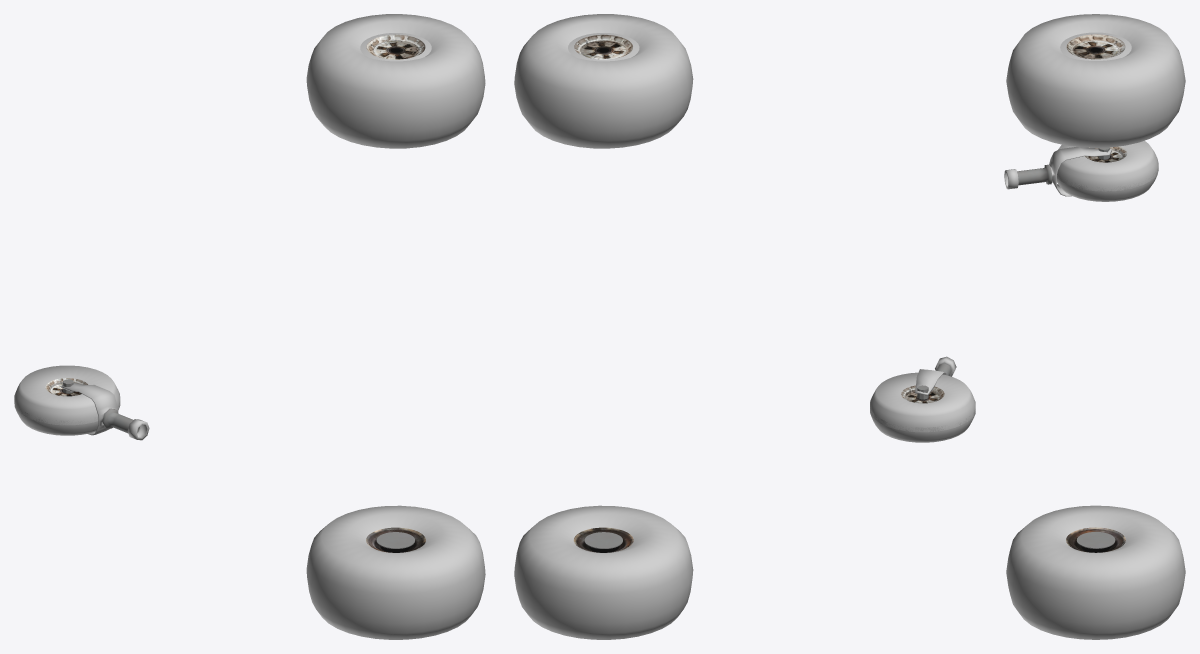
Rendered from c172p-bushkit.gltf.
3 renders of one model, left to right at view 1: azimuth 30°, elevation 25°; view 2: azimuth 150°, elevation 25°; view 3: azimuth 270°, elevation 25°, orthographic.
Parts seen in each view (by area): view 1: LeftWheelBK, RightWheelBK, NoseWheelBK, RightWheelBKsRim, NoseWheelStrutBKBottom, LeftWheelBKsRim; view 2: LeftWheelBK, RightWheelBK, NoseWheelBK, RightWheelBKsRim, LeftWheelBKsRim; view 3: LeftWheelBK, RightWheelBK, NoseWheelBK, RightWheelBKsRim, NoseWheelStrutBKBottom, LeftWheelBKsRim, RightWheelBKs, NoseWheelStrutBKMiddle, LeftWheelBKsCylinder, NoseWheelBKRim.
Part boxes in pixels (x1,y1,x2,y2): LeftWheelBK: [306, 505, 485, 639]; RightWheelBK: [306, 14, 485, 148]; NoseWheelBK: [14, 365, 120, 435]; RightWheelBKsRim: [366, 34, 425, 59]; NoseWheelStrutBKBottom: [61, 382, 118, 435]; LeftWheelBKsRim: [366, 527, 425, 552]; LeftWheelBK: [514, 505, 693, 639]; RightWheelBK: [514, 14, 693, 148]; NoseWheelBK: [870, 372, 975, 442]; RightWheelBKsRim: [574, 34, 632, 59]; LeftWheelBKsRim: [573, 527, 633, 552]; LeftWheelBK: [1006, 505, 1185, 639]; RightWheelBK: [1006, 14, 1185, 147]; NoseWheelBK: [1057, 140, 1158, 201]; RightWheelBKsRim: [1066, 34, 1125, 59]; NoseWheelStrutBKBottom: [1049, 147, 1111, 196]; LeftWheelBKsRim: [1066, 527, 1125, 552]; RightWheelBKs: [1060, 32, 1131, 60]; NoseWheelStrutBKMiddle: [1017, 164, 1052, 185]; LeftWheelBKsCylinder: [1076, 532, 1115, 548]; NoseWheelBKRim: [1085, 146, 1127, 162].
Bounding box in the file's own units: 2.27 × 2.77 × 0.7981.
